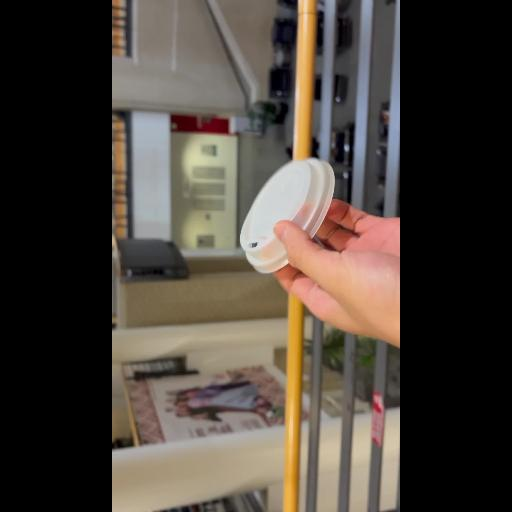lp_cup_lids: (238, 156, 336, 278)
